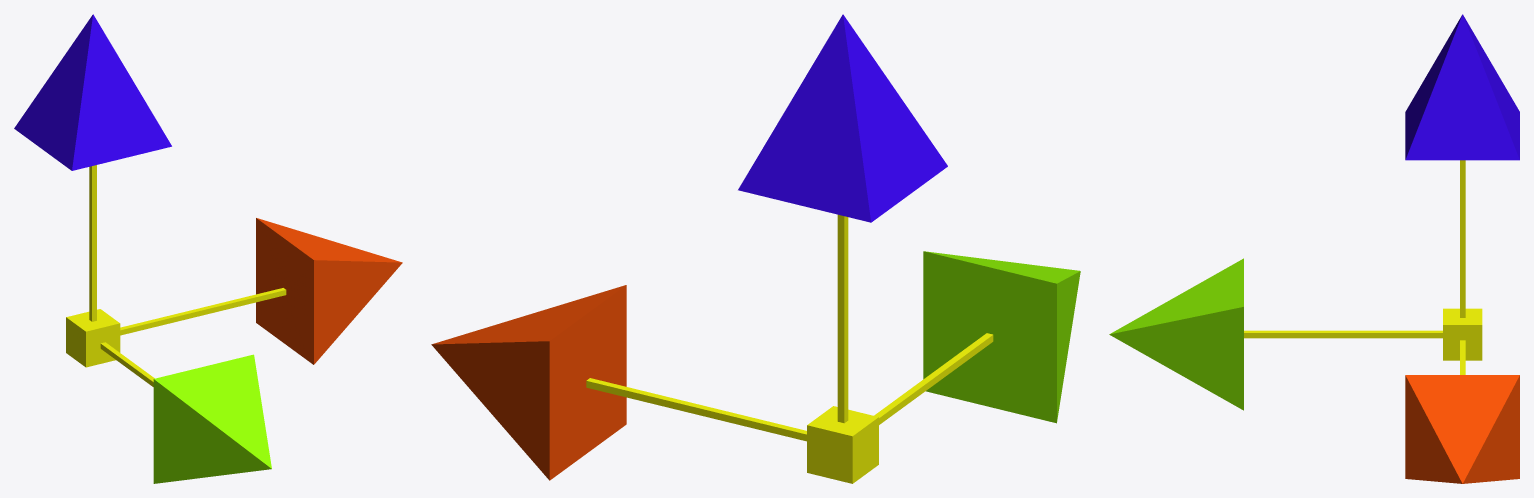
The model's file is gizmo_move.glb.
3 renders of one model, left to right at view 1: azimuth 30°, elevation 25°; view 2: azimuth 150°, elevation 25°; view 3: azimuth 270°, elevation 25°, orthographic. The views are drawn at different scales.
Visible parts, largest first — view 1: gizmo_move_z, gizmo_move_x, gizmo_move_y, gizmo_axes; view 2: gizmo_move_z, gizmo_move_x, gizmo_move_y, gizmo_axes; view 3: gizmo_move_x, gizmo_move_z, gizmo_move_y, gizmo_axes.
Boxes of the visible parts, x1=… form: gizmo_move_z: x1=14, y1=14, x2=171, y2=170; gizmo_move_x: x1=256, y1=218, x2=402, y2=364; gizmo_move_y: x1=153, y1=354, x2=271, y2=483; gizmo_axes: x1=66, y1=165, x2=286, y2=386; gizmo_move_z: x1=738, y1=14, x2=947, y2=222; gizmo_move_x: x1=431, y1=285, x2=626, y2=480; gizmo_move_y: x1=923, y1=251, x2=1080, y2=423; gizmo_axes: x1=586, y1=214, x2=993, y2=483; gizmo_move_x: x1=1405, y1=375, x2=1519, y2=483; gizmo_move_z: x1=1405, y1=14, x2=1519, y2=160; gizmo_move_y: x1=1109, y1=258, x2=1243, y2=410; gizmo_axes: x1=1244, y1=160, x2=1482, y2=374.
Bounding box in the file's own units: 0.3048 × 0.3048 × 0.3048.
